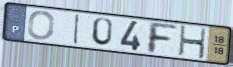0: (90, 17, 114, 48)
4: (119, 19, 144, 52)
F: (146, 20, 179, 56)
H: (178, 24, 208, 60)
I: (72, 13, 82, 46)
O: (26, 10, 57, 41)
